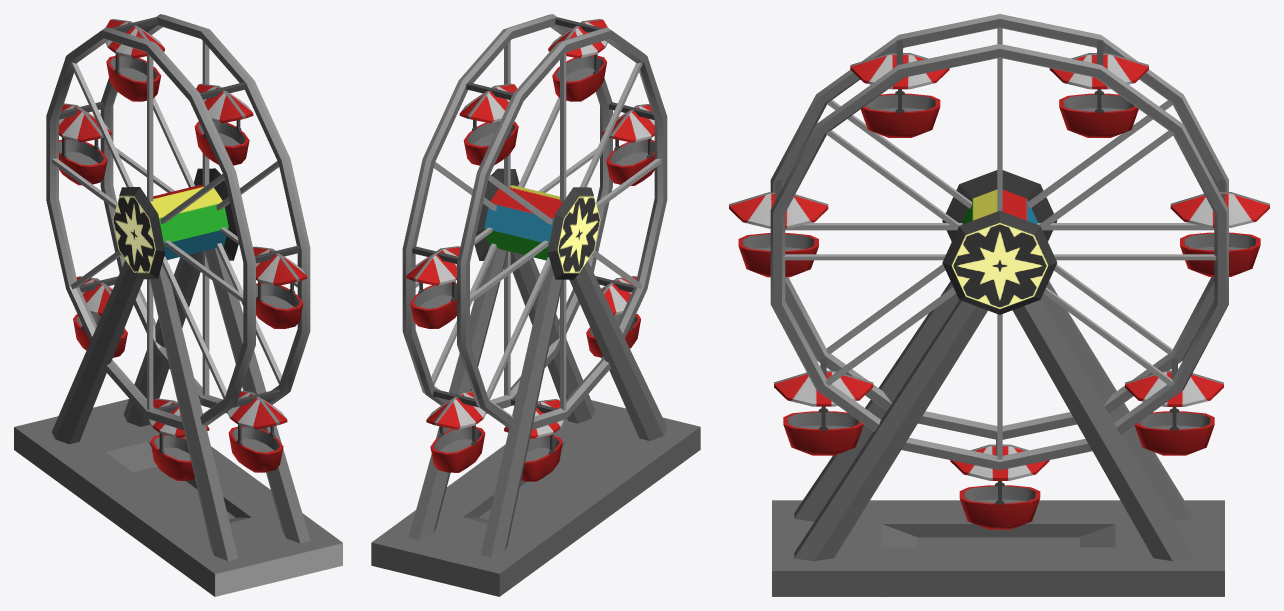
The model's file is ferris_wheel.glb.
The picture shows the model from 3 angles, left to right: view 1: azimuth 30°, elevation 25°; view 2: azimuth 150°, elevation 25°; view 3: azimuth 270°, elevation 25°; orthographic projection. The views are drawn at different scales.
Parts seen in each view (by area): view 1: pCube74, pCube67, pCube68, pCube71, polySurface1, polySurface3, pCube73, pCube72; view 2: pCube74, pCube72, pCube71, pCube68, polySurface1, polySurface3, pCube73, pCube67; view 3: pCube74, pCube67, pCube72, polySurface3, polySurface1, pCube73, pCube68, pCube71.
Boxes of the visible parts, x1,y1,x2,y2 form: pCube74: (14, 14, 342, 596); pCube67: (227, 390, 287, 472); pCube68: (253, 246, 307, 328); pCube71: (59, 103, 111, 185); polySurface1: (194, 83, 253, 165); polySurface3: (105, 19, 164, 101); pCube73: (148, 398, 209, 480); pCube72: (73, 276, 127, 357); pCube74: (371, 14, 700, 596); pCube72: (426, 391, 486, 472); pCube71: (406, 246, 460, 328); pCube68: (602, 103, 654, 185); polySurface1: (548, 19, 607, 101); polySurface3: (459, 83, 518, 165); pCube73: (504, 399, 564, 481); pCube67: (586, 276, 640, 357); pCube74: (770, 14, 1228, 596); pCube67: (774, 370, 873, 455); pCube72: (1125, 370, 1223, 455); polySurface3: (1049, 53, 1148, 137); polySurface1: (850, 53, 949, 137); pCube73: (950, 444, 1049, 529); pCube68: (729, 192, 828, 277); pCube71: (1170, 192, 1269, 276).
Size of the model in its own units: 0.5534 by 1.99 by 1.79.
2 materials, 2 textured.
